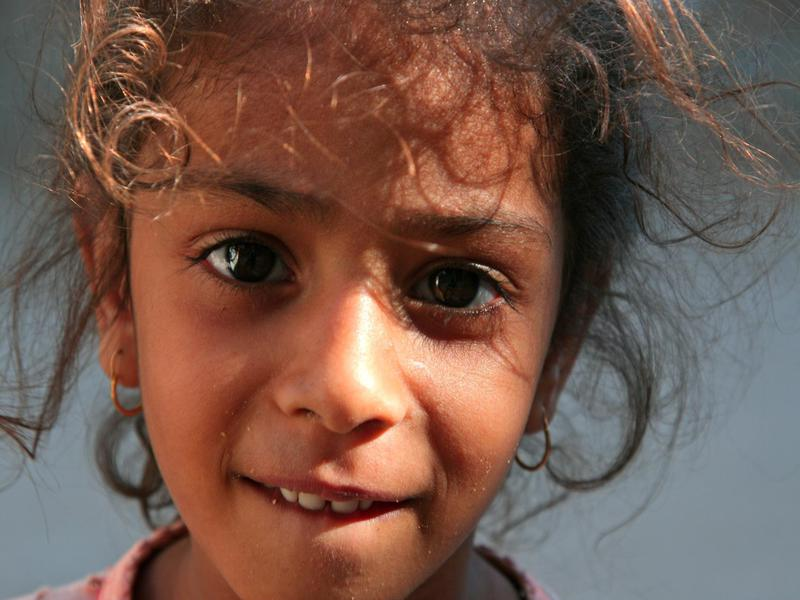person: (13, 1, 646, 600)
